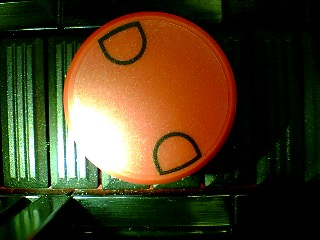MIPO2: (63, 11, 237, 186)
